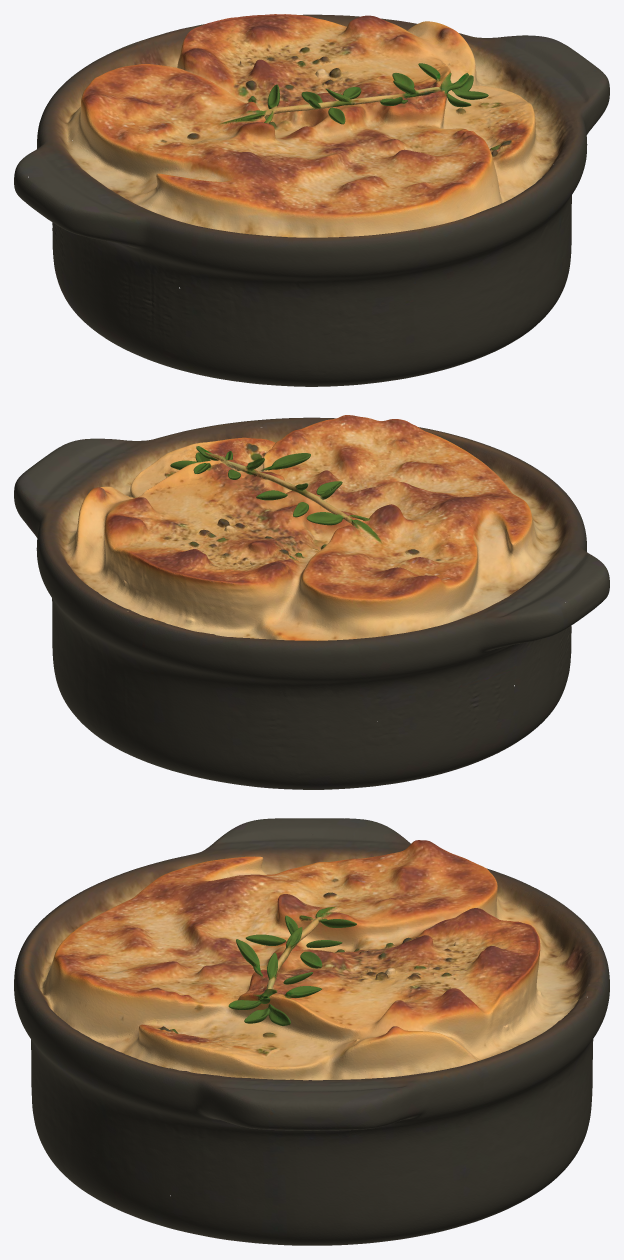
File: gratain-v1.glb
3 renders of one model, top to bottom at view 1: azimuth 30°, elevation 25°; view 2: azimuth 150°, elevation 25°; view 3: azimuth 270°, elevation 25°, orthographic. The views are drawn at different scales.
Visible parts, largest first — view 1: tripo_node_b2c8e47b-a455-442f-bec9-3994fc94b8f0; view 2: tripo_node_b2c8e47b-a455-442f-bec9-3994fc94b8f0; view 3: tripo_node_b2c8e47b-a455-442f-bec9-3994fc94b8f0.
Part boxes in pixels (bbox=[...]): tripo_node_b2c8e47b-a455-442f-bec9-3994fc94b8f0: bbox=[14, 14, 609, 386]; tripo_node_b2c8e47b-a455-442f-bec9-3994fc94b8f0: bbox=[14, 415, 609, 789]; tripo_node_b2c8e47b-a455-442f-bec9-3994fc94b8f0: bbox=[14, 818, 609, 1245].
Size of the model in its own units: 1 by 0.3525 by 0.8639.
Materials: 1 (1 with a texture image).
